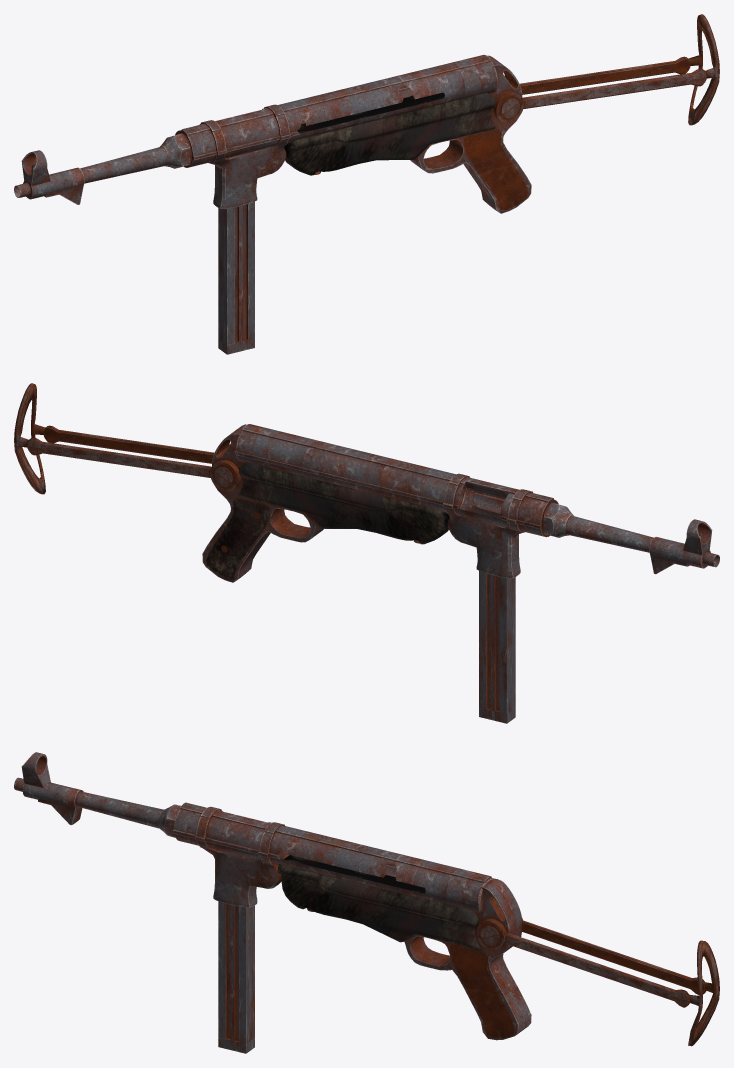
3 views of the same model, one above another, from view 1: azimuth 30°, elevation 25°; view 2: azimuth 150°, elevation 25°; view 3: azimuth 330°, elevation 25° (orthographic).
Visible parts, largest first — view 1: Object_8, Object_4, Object_10, Object_6, Object_2, Object_9, Object_3; view 2: Object_8, Object_4, Object_10, Object_2, Object_9, Object_6, Object_5, Object_3; view 3: Object_8, Object_4, Object_6, Object_10, Object_2, Object_9.
Part boxes in pixels (bbox=[...]): Object_8: bbox=[175, 54, 497, 209]; Object_4: bbox=[284, 92, 495, 175]; Object_10: bbox=[493, 14, 719, 125]; Object_6: bbox=[410, 55, 531, 213]; Object_2: bbox=[218, 201, 254, 354]; Object_9: bbox=[14, 146, 168, 204]; Object_3: bbox=[160, 133, 191, 168]; Object_8: bbox=[234, 424, 558, 578]; Object_4: bbox=[238, 462, 449, 544]; Object_10: bbox=[14, 383, 240, 494]; Object_2: bbox=[479, 571, 515, 723]; Object_9: bbox=[500, 502, 719, 574]; Object_6: bbox=[202, 424, 323, 582]; Object_5: bbox=[206, 498, 270, 579]; Object_3: bbox=[542, 503, 573, 537]; Object_8: bbox=[173, 802, 493, 913]; Object_4: bbox=[277, 855, 481, 950]; Object_6: bbox=[404, 878, 531, 1040]; Object_10: bbox=[476, 918, 719, 1046]; Object_2: bbox=[218, 901, 254, 1053]; Object_9: bbox=[14, 752, 163, 828].
Size of the model in its own units: 2.39 by 0.8047 by 0.1386.
9 materials, 9 textured.
